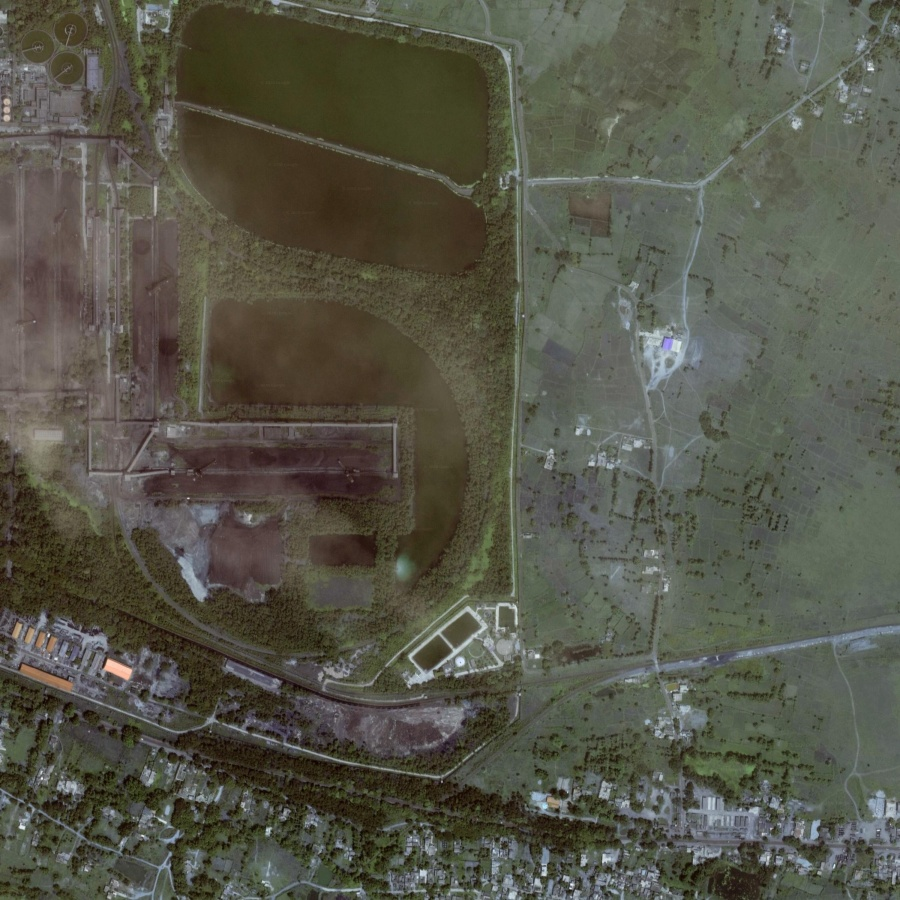PowerPlant: (124, 421, 408, 607)
